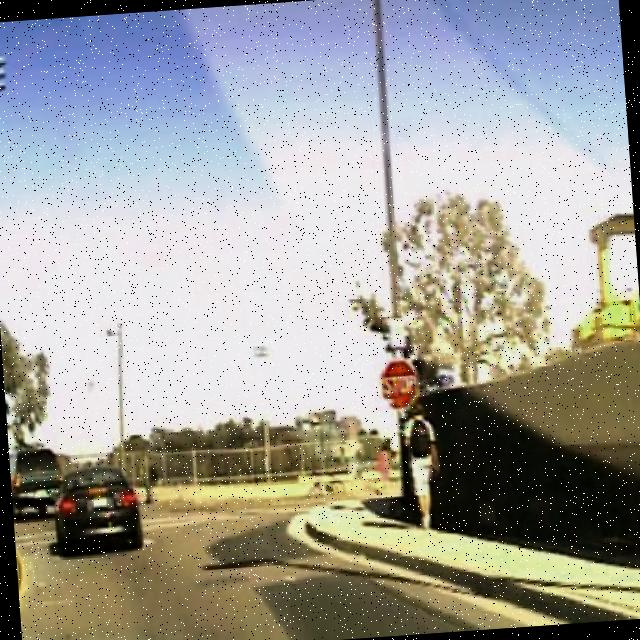Stop: (379, 356, 421, 414)
